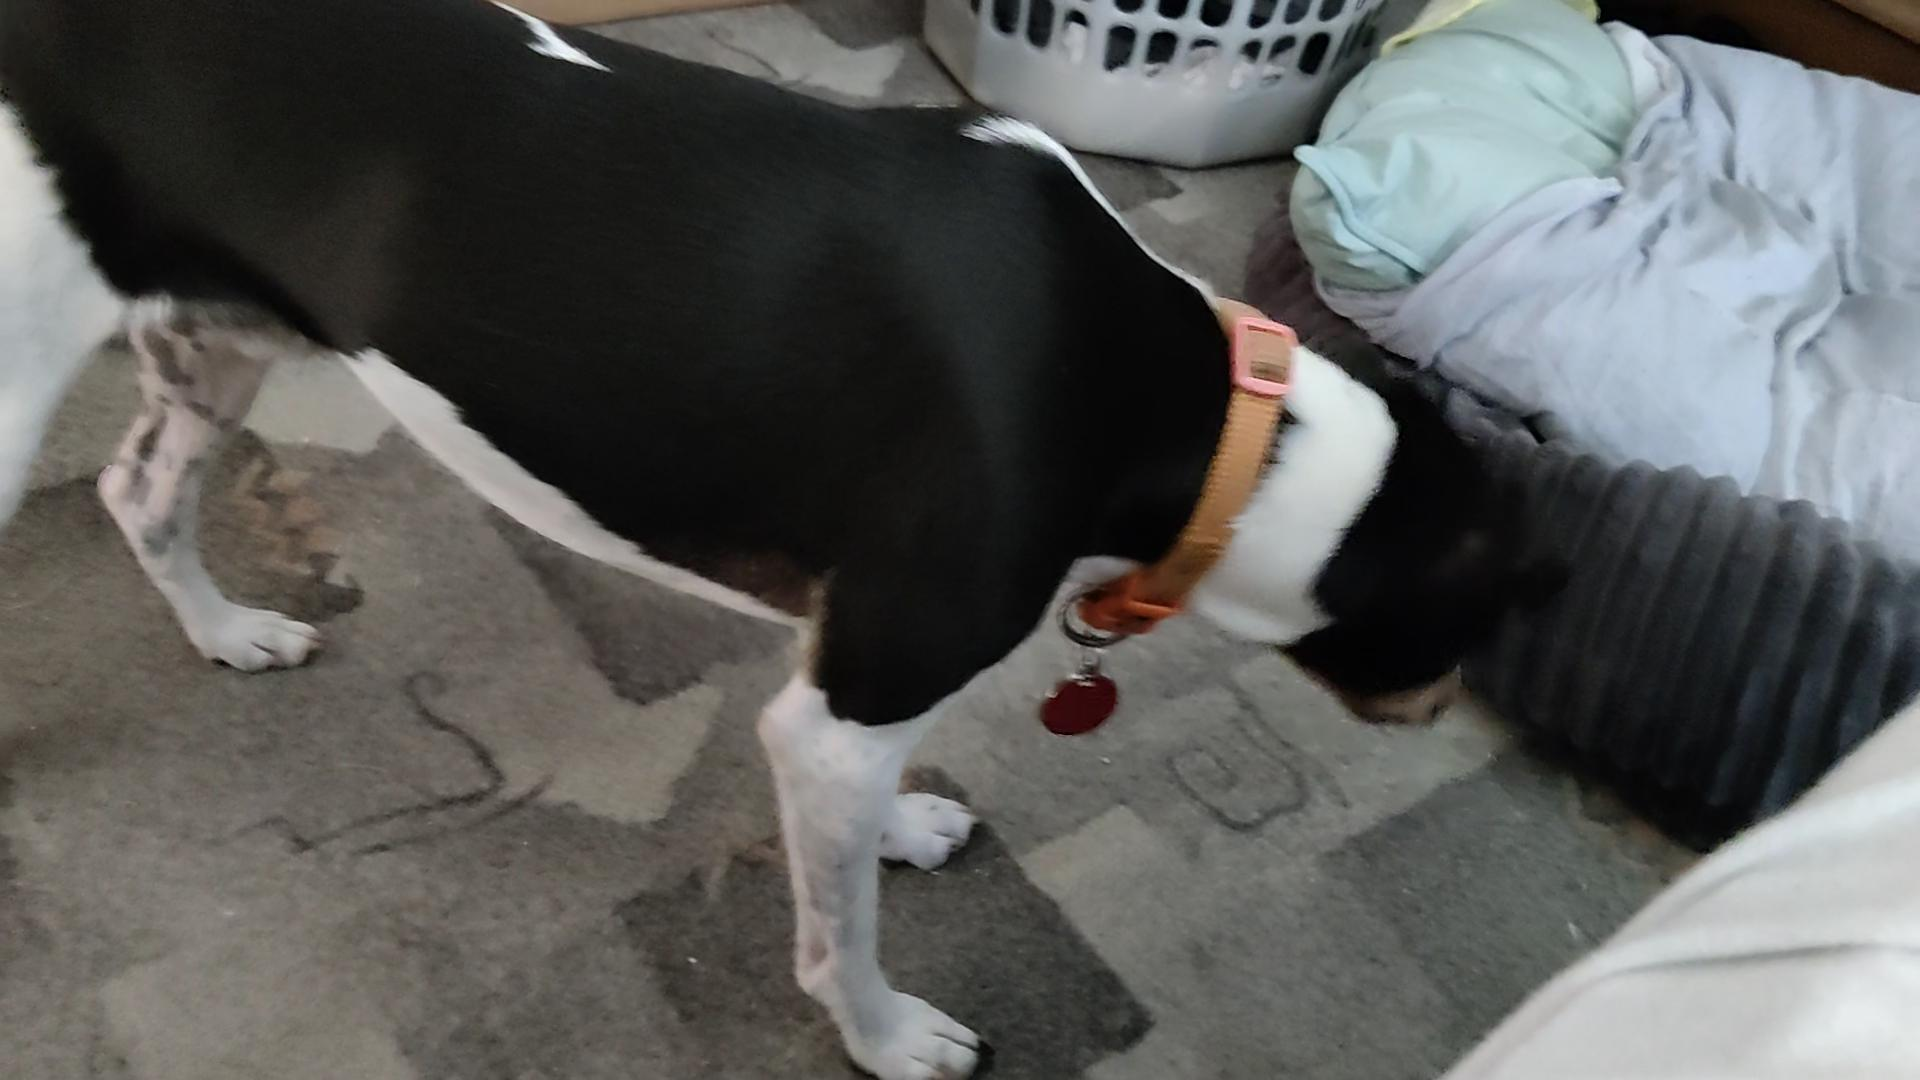Dog: (0, 0, 1581, 1079)
